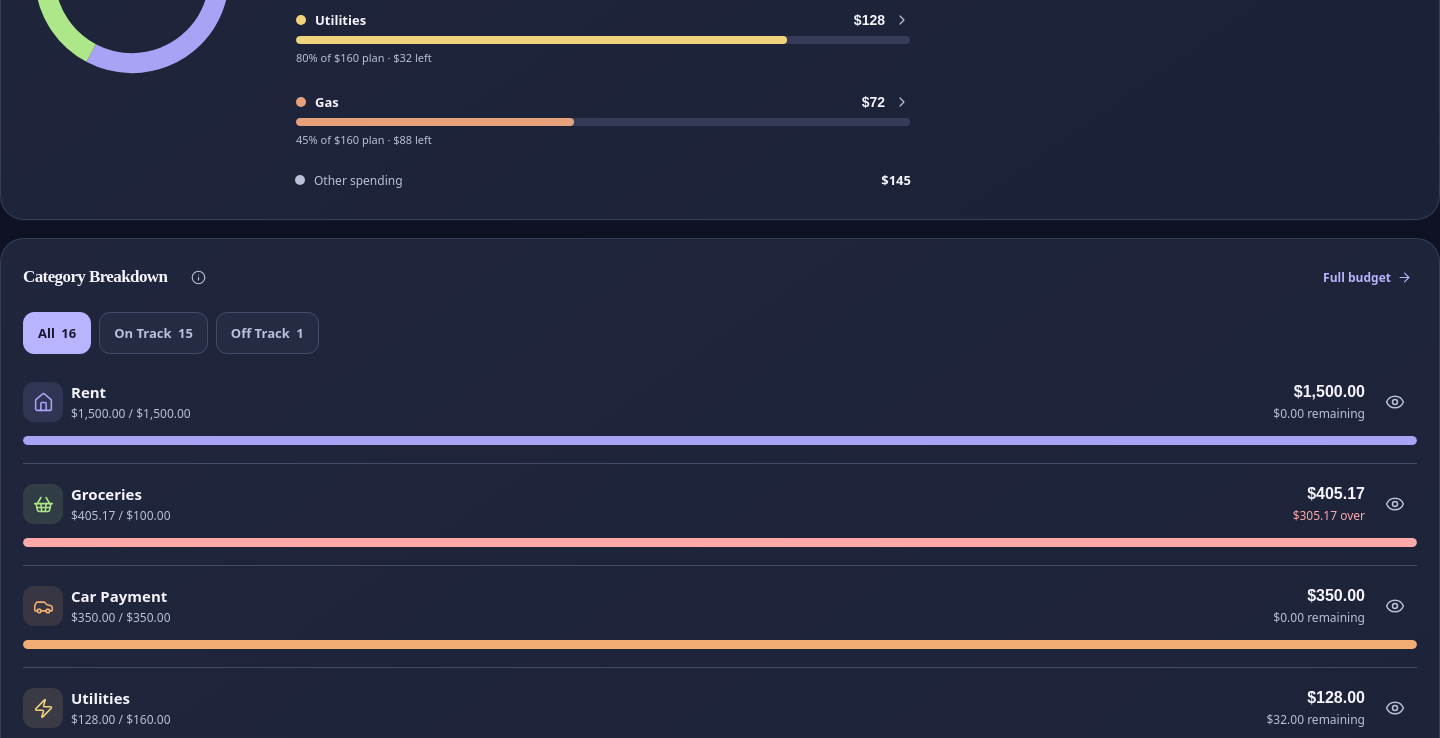
Test case: Category Breakdown › filters off-track categories and explains a category with no entries
(page scrolled)
Click the button "Off Track 1": (267, 333) [216,312,318,354]
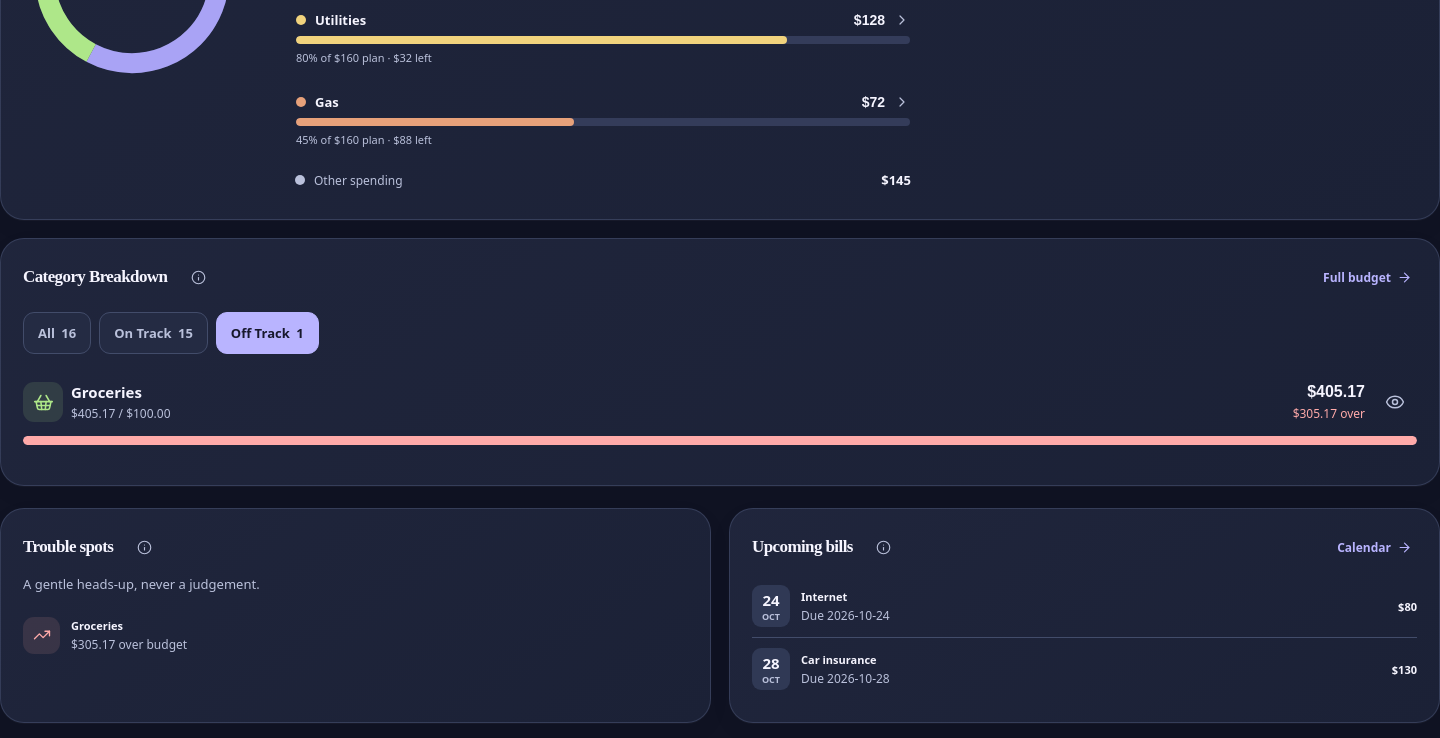
Expected: the button named "View Groceries transactions" is shown, [1373,380,1417,424]
Click the button "All 16": (57, 333) [23,312,91,354]
(page scrolled)
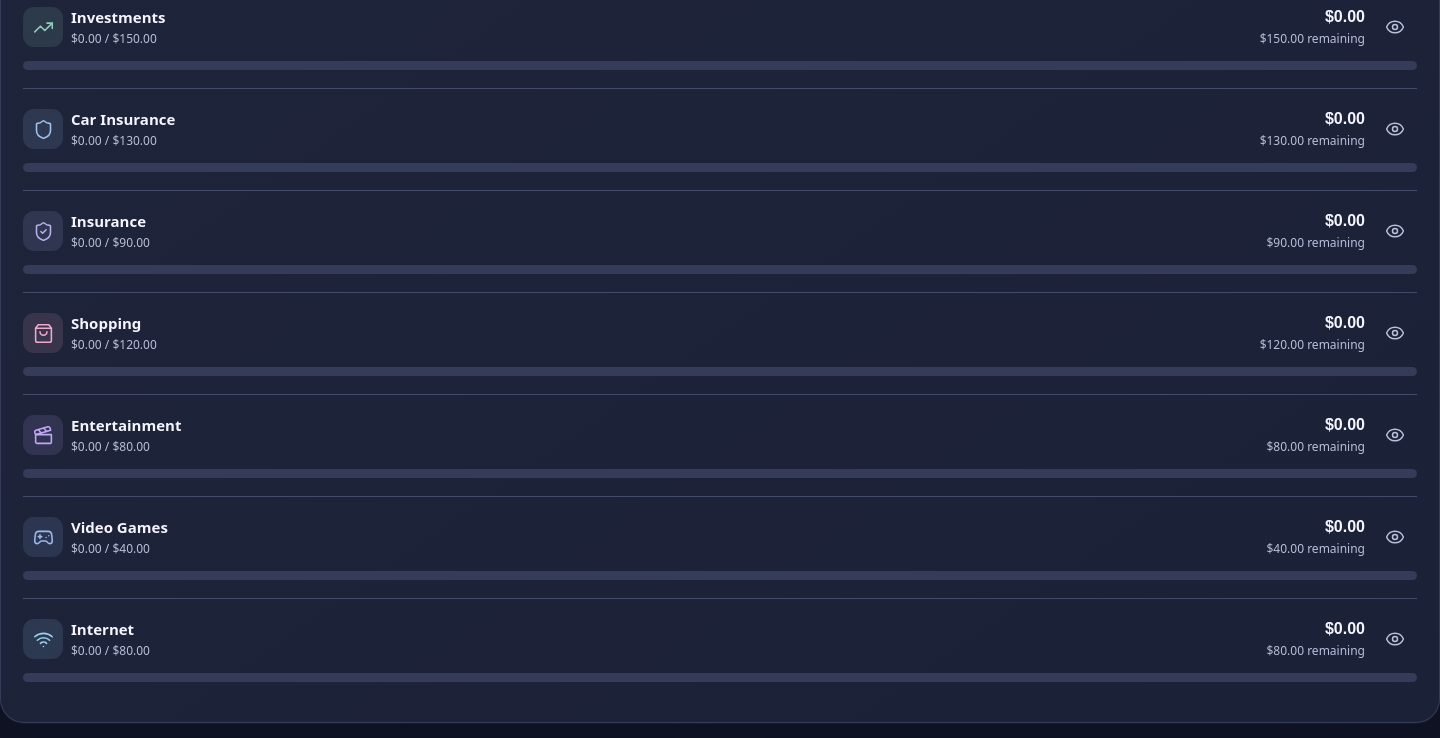
Click the button named "View Shopping transactions": (1395, 333) [1373,311,1417,355]
(page scrolled)
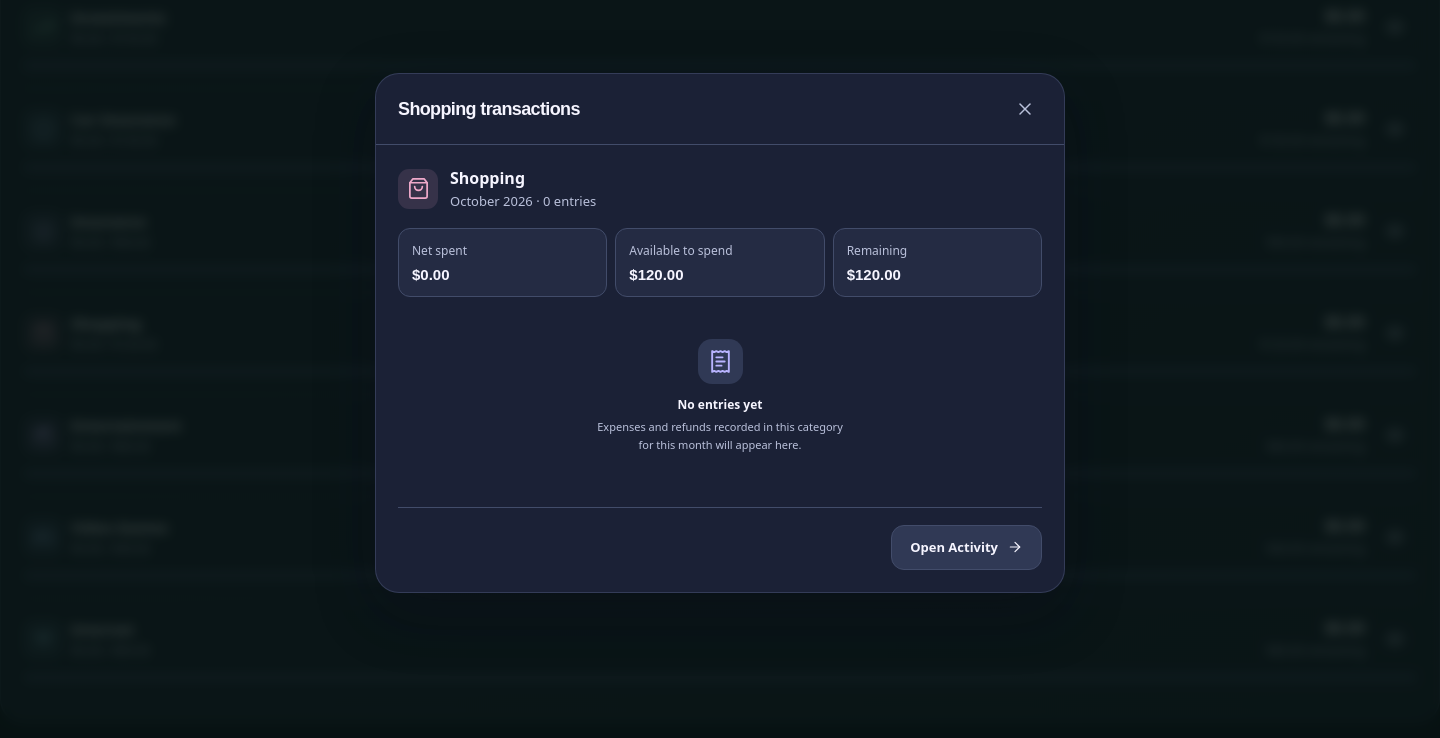
Expected: the text "No entries yet" is shown, [678,396,762,414]
